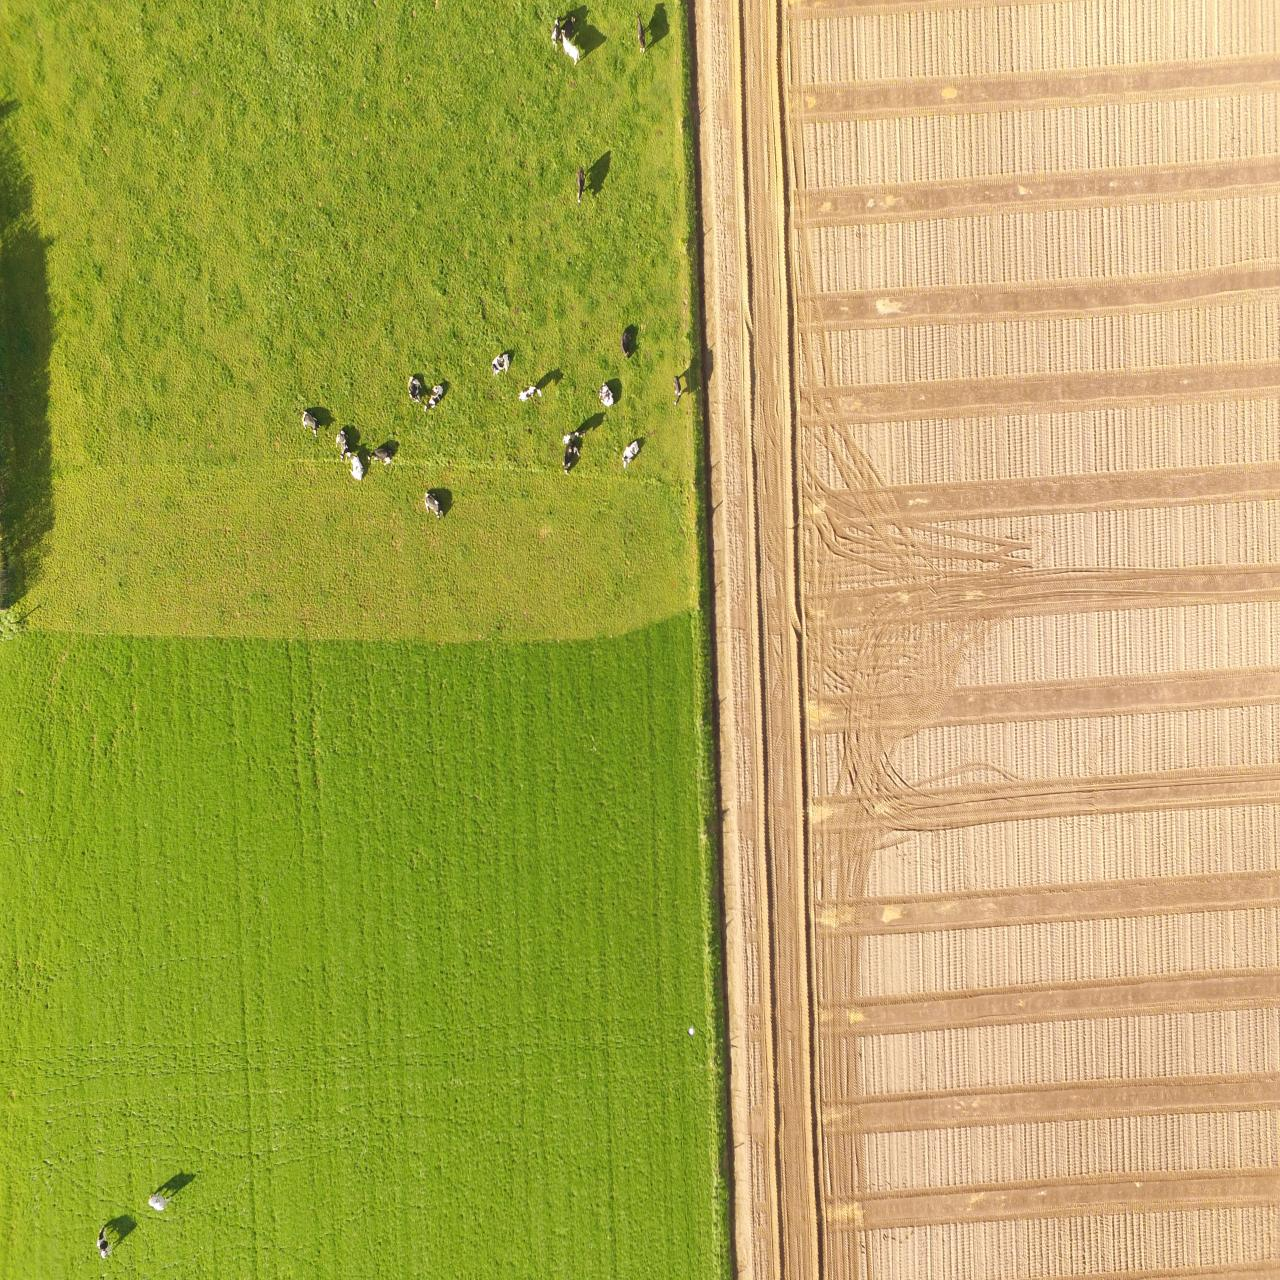cow: (95, 1224, 115, 1258), (559, 30, 580, 60), (620, 438, 639, 469), (424, 490, 444, 518), (560, 444, 579, 474), (634, 12, 647, 54), (424, 383, 444, 410), (300, 410, 321, 435), (347, 450, 363, 479), (550, 15, 563, 52), (407, 375, 422, 406), (148, 1191, 172, 1210), (490, 353, 510, 375), (367, 447, 393, 463), (574, 165, 585, 205), (335, 428, 348, 459), (669, 374, 681, 407), (560, 429, 587, 443), (560, 16, 579, 36), (519, 386, 542, 402), (599, 383, 614, 407), (619, 331, 631, 359)
